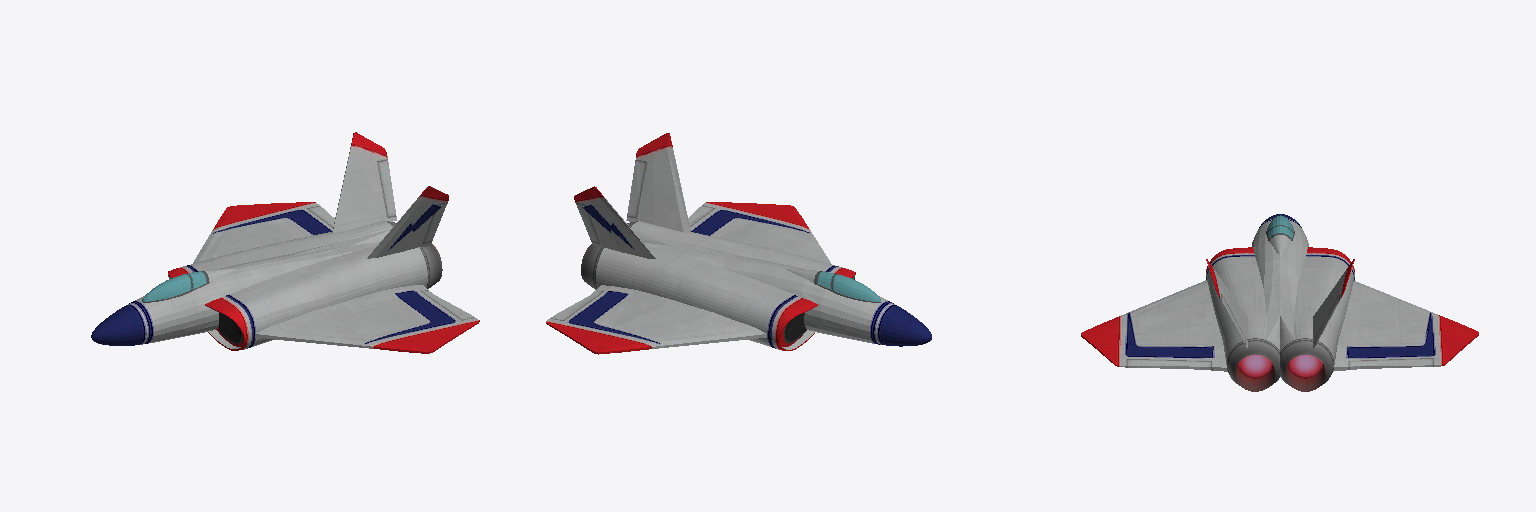
3 views of the same model, side by side, from view 1: azimuth 30°, elevation 25°; view 2: azimuth 150°, elevation 25°; view 3: azimuth 270°, elevation 25° (orthographic).
Visible parts, largest first — view 1: Object_texture.jpg; view 2: Object_texture.jpg; view 3: Object_texture.jpg.
Boxes of the visible parts, <box> form: Object_texture.jpg: <box>91,132,479,353</box>; Object_texture.jpg: <box>546,133,931,354</box>; Object_texture.jpg: <box>1081,214,1478,391</box>.
Size of the model in its own units: 2.38 by 0.8794 by 2.5.
Materials: 2 (1 with a texture image).